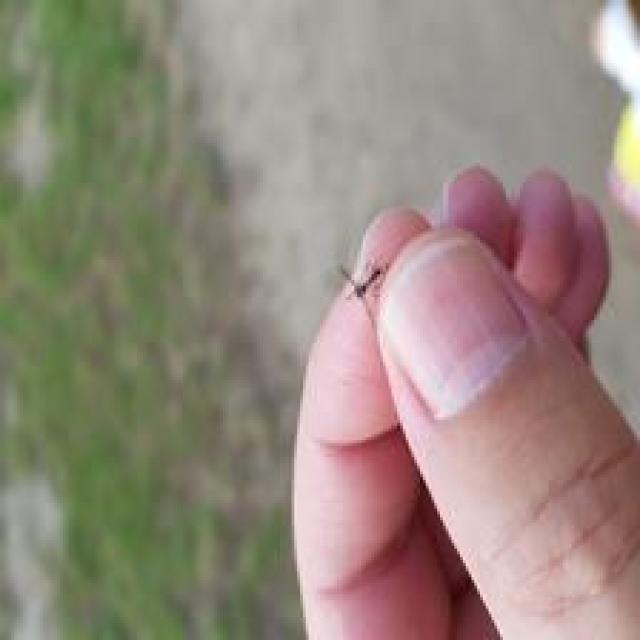Aedes albopictus: (337, 260, 386, 320)
